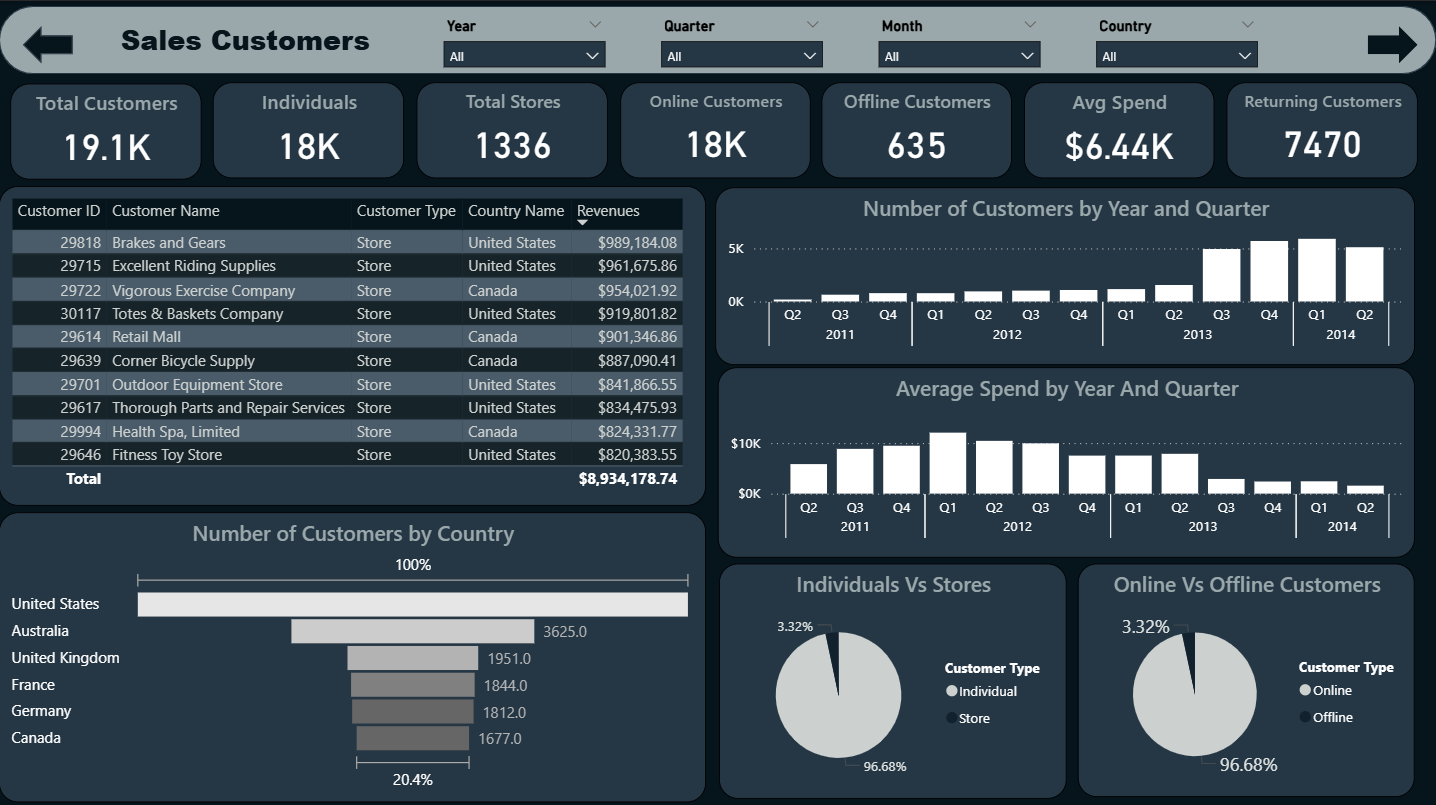

The dashboard page shown, as its layout file describes it:
{"tool":"powerbi","page":{"name":"👤 Customers","canvas":[1280,720],"ordinal":2},"visuals":[{"type":"shape","box":[0,4.5,1280,60.7],"z":0},{"type":"card","title":"Returning Customers","fields":{"Values":["measures_.Returning Customers"]},"box":[1092.9,72.1,170.5,85.3],"z":1000},{"type":"card","title":"Total Customers","fields":{"Values":["measures_.# Customers"]},"box":[9.6,73.3,170.5,85.3],"z":2000},{"type":"card","title":"Avg Spend","fields":{"Values":["measures_.avg_spend (test)"]},"box":[912.9,72.1,169.3,85.3],"z":3000},{"type":"card","title":"Online Customers","fields":{"Values":["measures_.online_Cust"]},"box":[553.1,72.1,169.3,85.3],"z":4000},{"type":"card","title":"Offline Customers","fields":{"Values":["measures_.Offline_Cust"]},"box":[733,72.1,169.3,85.3],"z":5000},{"type":"card","title":"Total Stores","fields":{"Values":["measures_.stores_cust"]},"box":[371.9,72.1,170.5,85.3],"z":6000},{"type":"card","title":"Individuals","fields":{"Values":["measures_.Individual_Customers"]},"box":[190.8,72.1,170.5,85.3],"z":7000},{"type":"textbox","box":[103.5,12.2,248.2,46.8],"z":8000},{"type":"slicer","fields":{"Values":["Date.Year"]},"box":[383.9,8.1,167.4,54.7],"z":9000},{"type":"slicer","fields":{"Values":["Date.Quarter"]},"box":[577.7,8.1,167.4,54.7],"z":10000},{"type":"slicer","fields":{"Values":["Date.Month"]},"box":[771.4,8.1,167.4,54.7],"z":11000},{"type":"shape","title":"Sales Person","box":[1218.9,22.3,44.5,33.4],"z":12000},{"type":"shape","box":[21.2,22.3,44.5,33.4],"z":13000},{"type":"tableEx","fields":{"Values":["Fact_Sales.CustomerID","Dim_Customers.CustomerName","Dim_Customers.CustomerType","Dim_CustCountryRegion.CountryName","Sum(Fact_Sales.TotalDue)"]},"box":[0,164.5,629.3,284.6],"z":14000},{"type":"funnel","title":"Number of Customers by Country","fields":{"Category":["Dim_CustCountryRegion.CountryName"],"Y":["measures_.# Customers"]},"box":[0,455.2,629.3,258.2],"z":15000},{"type":"clusteredColumnChart","title":"Number of Customers by Year and Quarter","fields":{"Y":["measures_.# Customers"],"Category":["Date.Year","Date.Quarter"]},"box":[637.7,165.7,623.3,158.5],"z":16000},{"type":"pieChart","title":"Individuals Vs Stores","fields":{"Y":["measures_.# Customers"],"Category":["Dim_Customers.CustomerType"]},"box":[641.2,500.9,309.5,209.3],"z":17000},{"type":"clusteredColumnChart","title":"Average Spend by Year And Quarter","fields":{"Category":["Date.Year","Date.Quarter"],"Y":["measures_.avg_spend (test)"]},"box":[640.1,326.7,620.9,169.3],"z":18000},{"type":"pieChart","title":"Online Vs Offline Customers","fields":{"Y":["measures_.# Customers"],"Category":["Fact_Sales.OrderType"]},"box":[960.8,500.8,300.2,207.8],"z":19000},{"type":"slicer","fields":{"Values":["Dim_CustCountryRegion.CountryName"]},"box":[965.1,8.1,167.4,54.7],"z":20000}]}

Visuals, with their boxes in screenshot pixels (x1, y1, x2, y2), scaled from the page's 1280x720 canvas onto the 1436x805 screenshot:
shape: box(0, 5, 1435, 73)
"Returning Customers" card: box(1226, 81, 1417, 176)
"Total Customers" card: box(11, 82, 202, 177)
"Avg Spend" card: box(1024, 81, 1214, 176)
"Online Customers" card: box(621, 81, 810, 176)
"Offline Customers" card: box(822, 81, 1012, 176)
"Total Stores" card: box(417, 81, 609, 176)
"Individuals" card: box(214, 81, 405, 176)
textbox: box(116, 14, 395, 66)
slicer - Date.Year: box(431, 9, 618, 70)
slicer - Date.Quarter: box(648, 9, 836, 70)
slicer - Date.Month: box(865, 9, 1053, 70)
"Sales Person" shape: box(1367, 25, 1417, 62)
shape: box(24, 25, 74, 62)
tableEx - Fact_Sales.CustomerID x Dim_Customers.CustomerName: box(0, 184, 706, 502)
"Number of Customers by Country" funnel: box(0, 509, 706, 798)
"Number of Customers by Year and Quarter" clusteredColumnChart: box(715, 185, 1415, 362)
"Individuals Vs Stores" pieChart: box(719, 560, 1067, 794)
"Average Spend by Year And Quarter" clusteredColumnChart: box(718, 365, 1415, 555)
"Online Vs Offline Customers" pieChart: box(1078, 560, 1415, 792)
slicer - Dim_CustCountryRegion.CountryName: box(1083, 9, 1271, 70)
